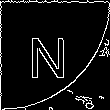N_N: (34, 29, 76, 81)
